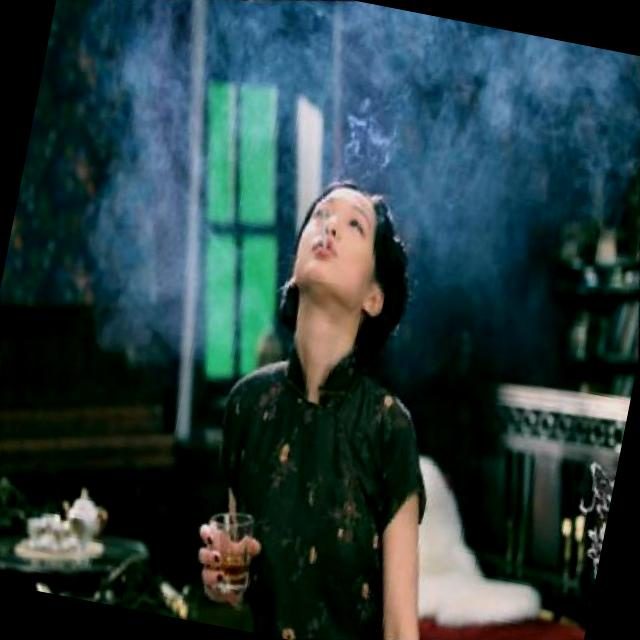smoke: (310, 202, 339, 253)
